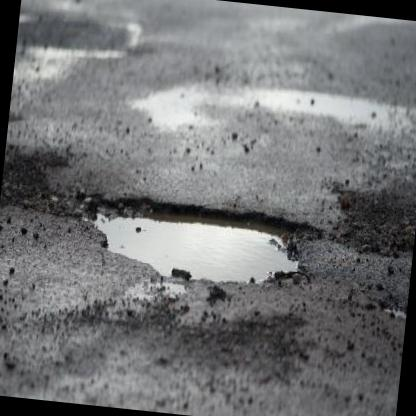pothole: (76, 185, 314, 293)
